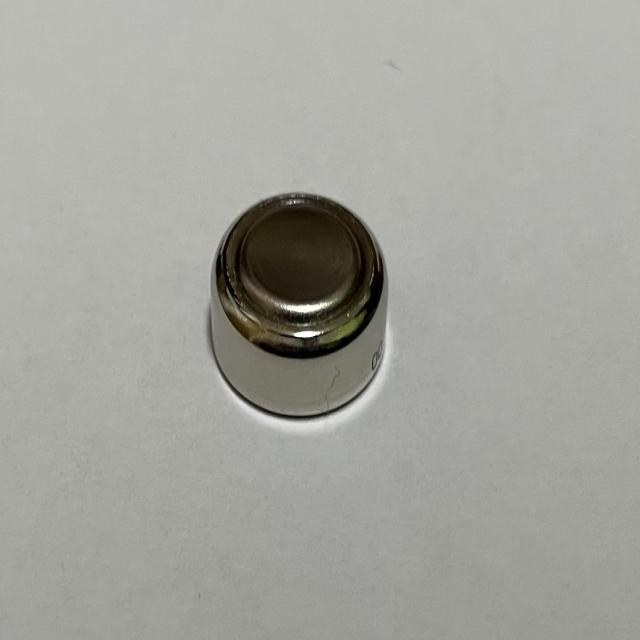COIN: (208, 190, 390, 424)
